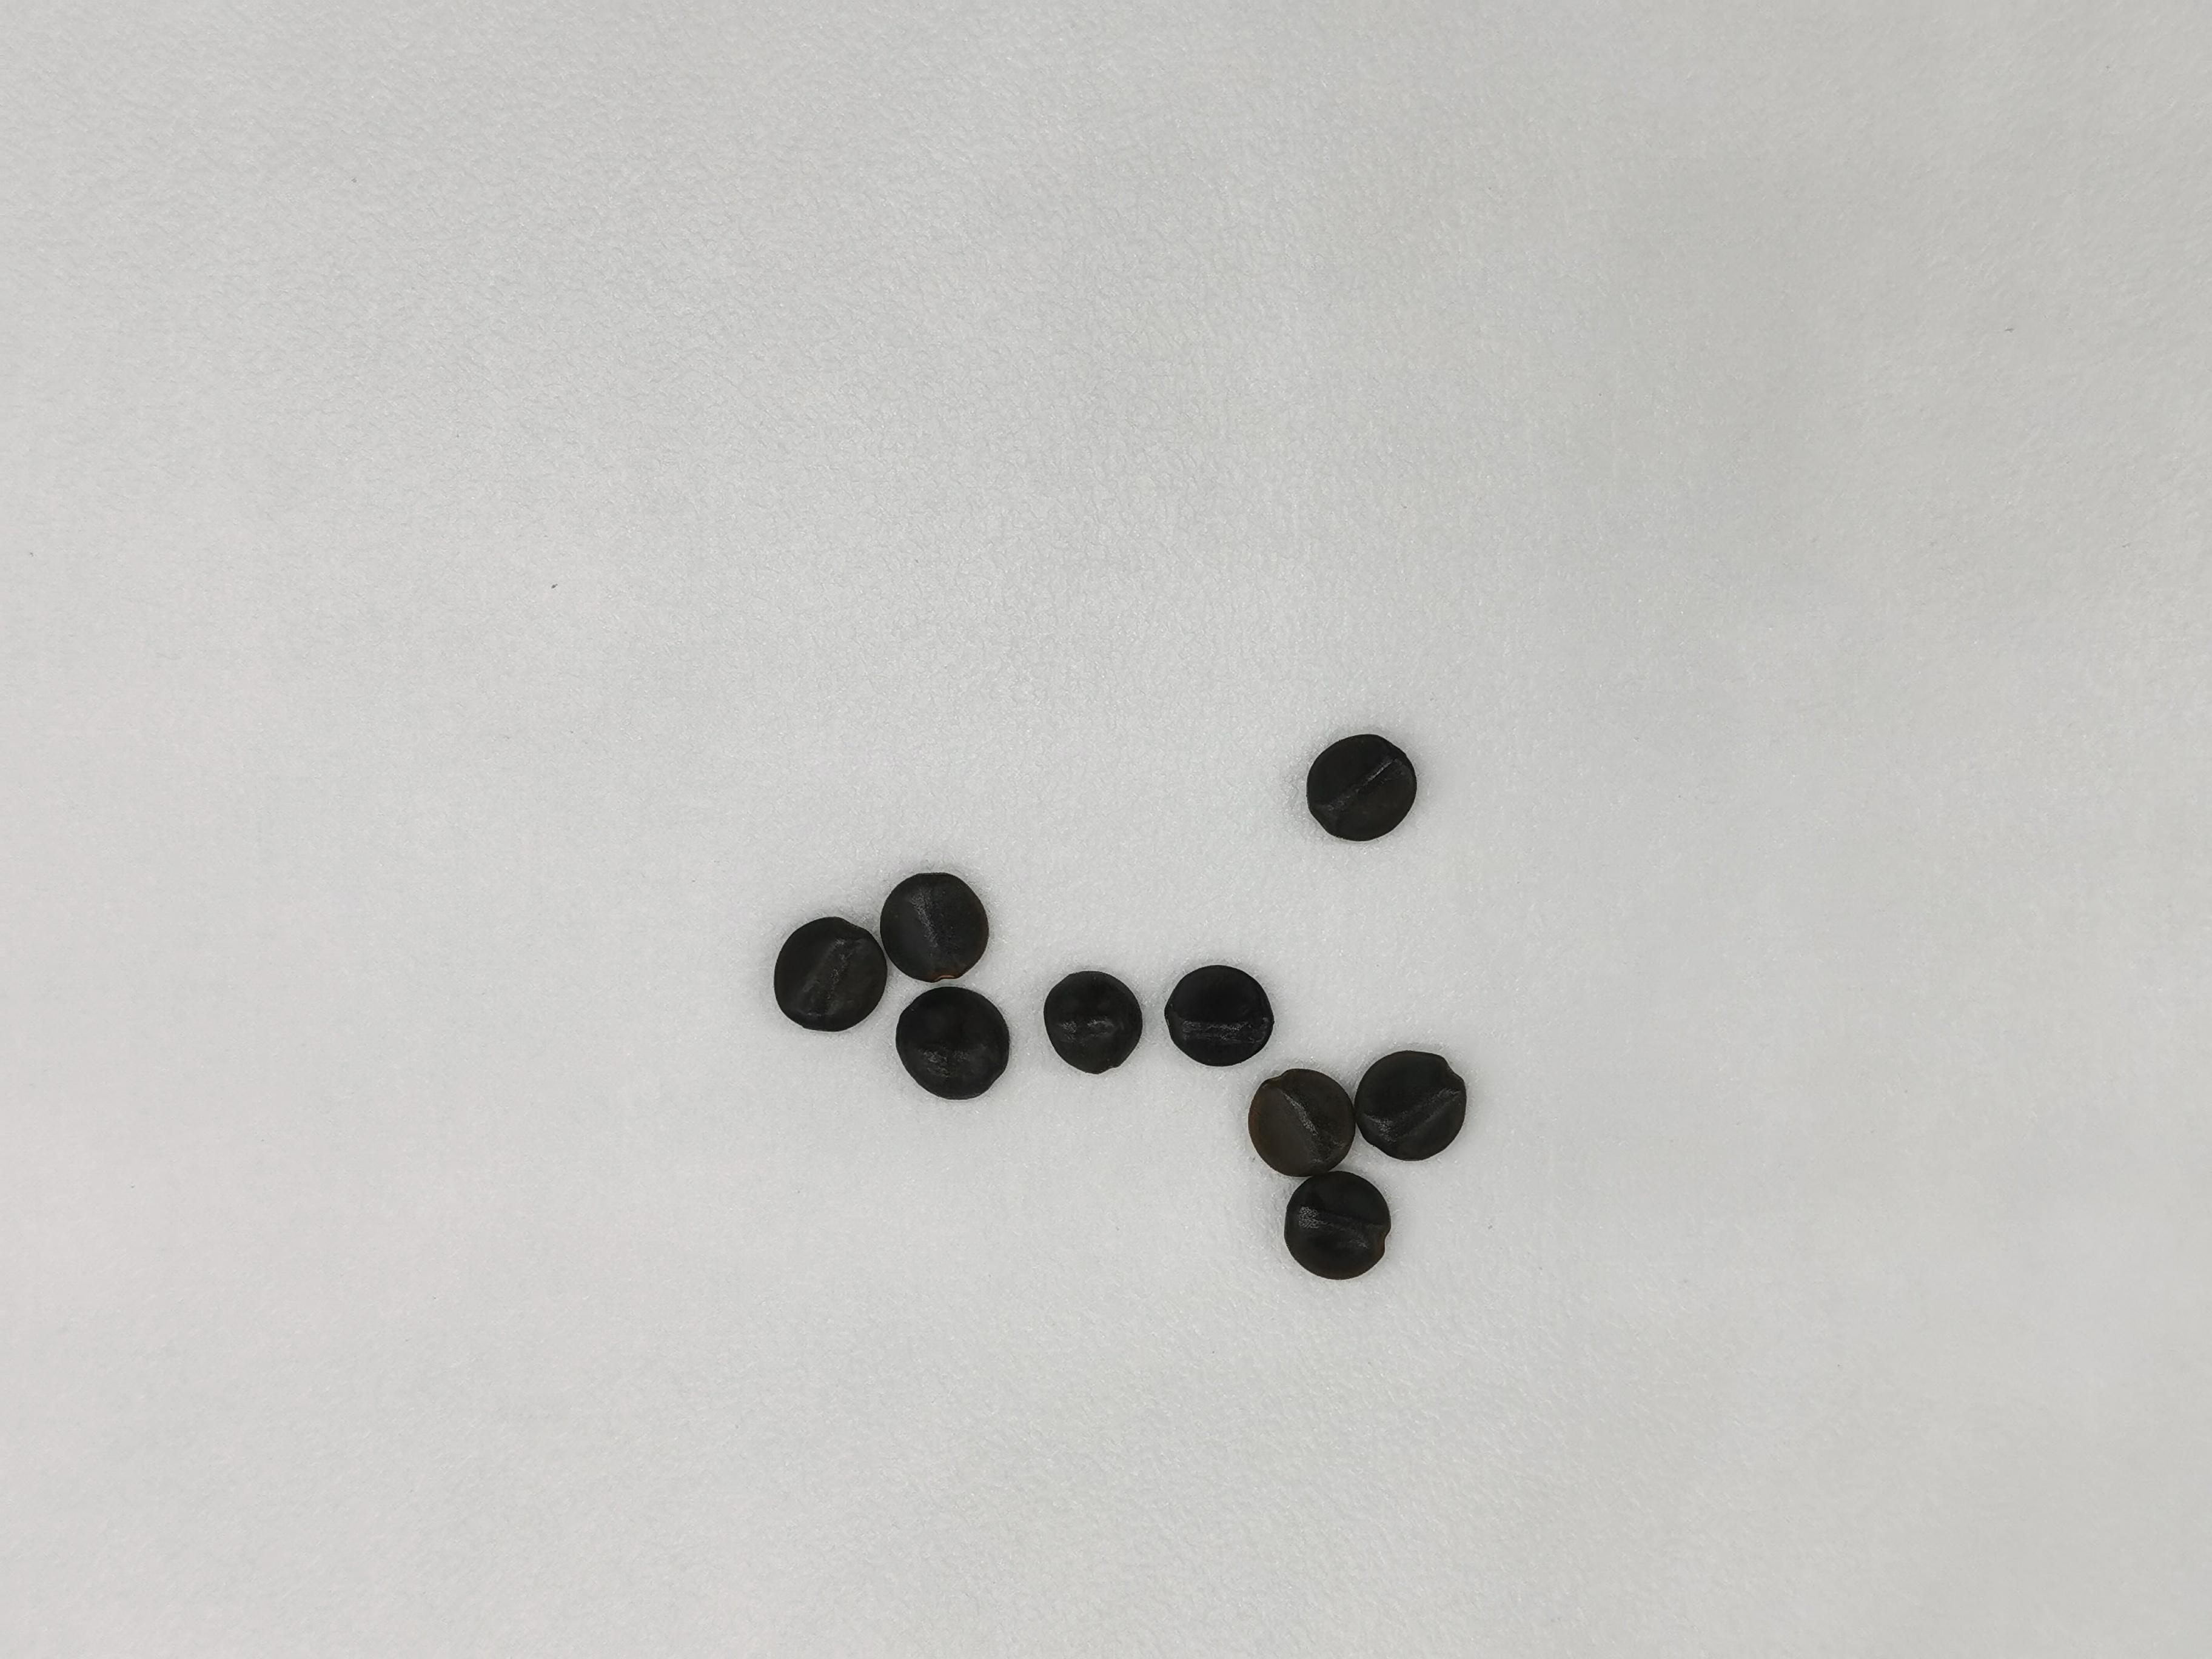seed: (770, 913, 890, 1039), (894, 981, 1008, 1105), (1353, 1047, 1468, 1162), (1242, 1066, 1357, 1182), (1308, 727, 1418, 845), (1282, 1171, 1395, 1279), (1163, 964, 1278, 1070), (881, 868, 988, 981), (1042, 965, 1144, 1075)
